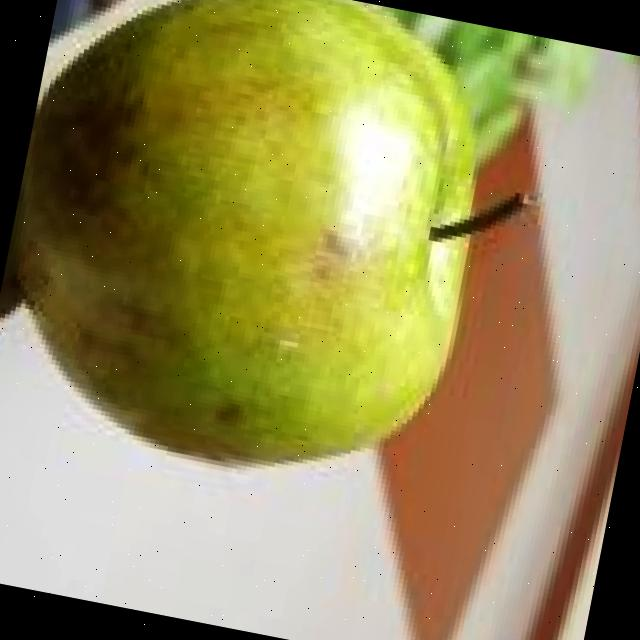Good_Apple 10-21 days: (19, 0, 473, 464)
